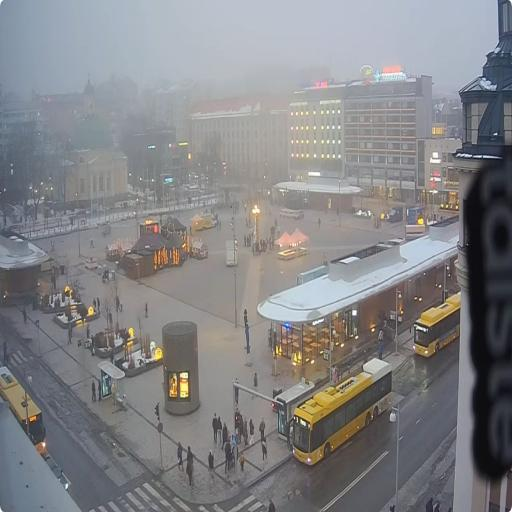Bus: (293, 358, 391, 464), (0, 366, 70, 489), (0, 366, 46, 454), (413, 292, 460, 355), (414, 293, 460, 355), (446, 292, 460, 308), (289, 437, 291, 440), (20, 462, 22, 462)
